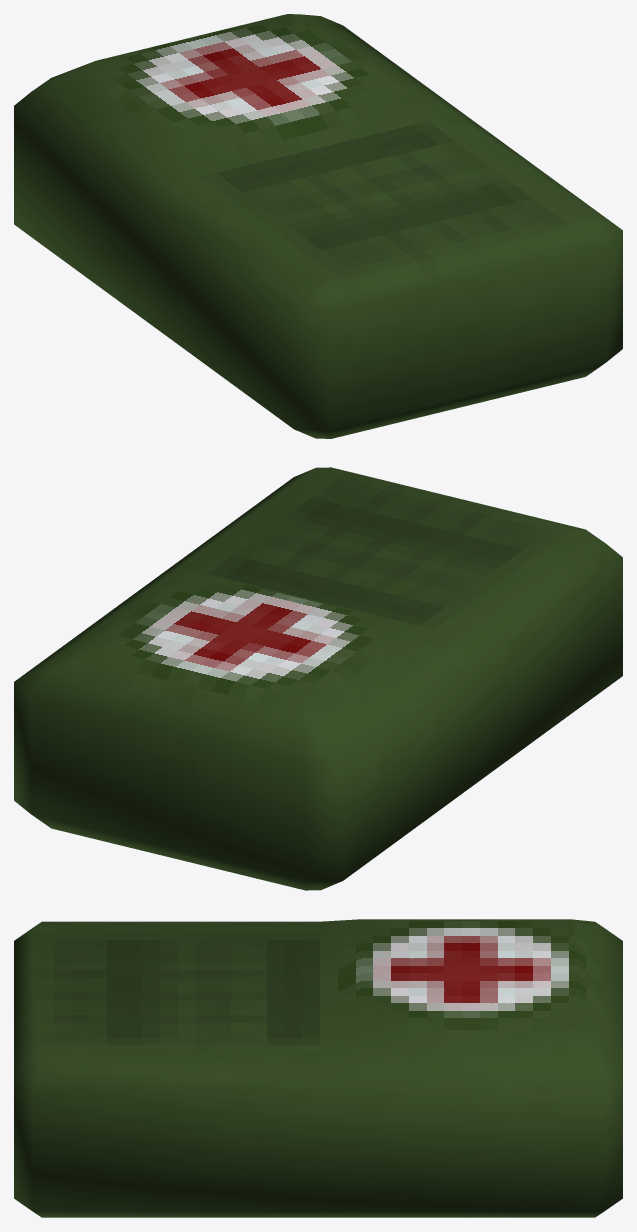
File: medkit.obj
The picture shows the model from 3 angles, top to bottom: view 1: azimuth 30°, elevation 25°; view 2: azimuth 150°, elevation 25°; view 3: azimuth 270°, elevation 25°; orthographic projection.
Parts seen in each view (by area): view 1: Cube; view 2: Cube; view 3: Cube.
Part boxes in pixels (<box>): Cube: <box>14,14,622,438</box>; Cube: <box>14,467,622,890</box>; Cube: <box>14,919,622,1217</box>.
Size of the model in its own units: 0.0648 by 0.0329 by 0.1021.
1 material, 1 textured.
